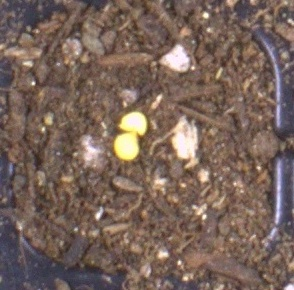chilli seed: (113, 131, 139, 160), (117, 110, 147, 135)
